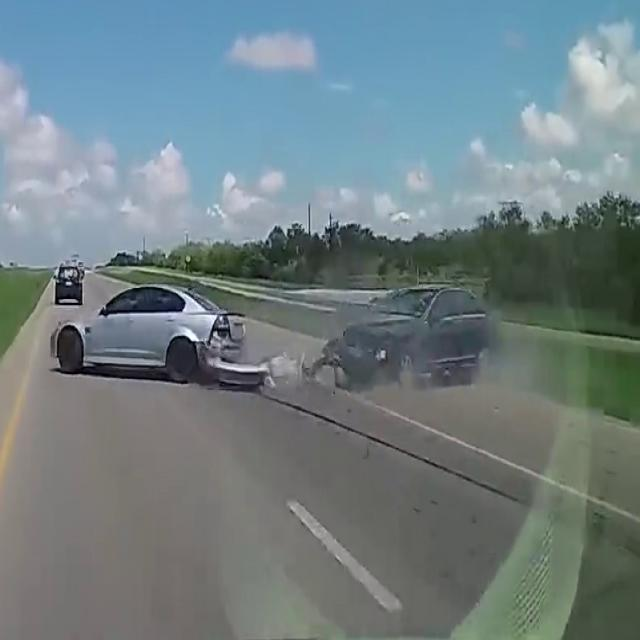accident: (42, 275, 276, 403), (325, 272, 502, 390)
